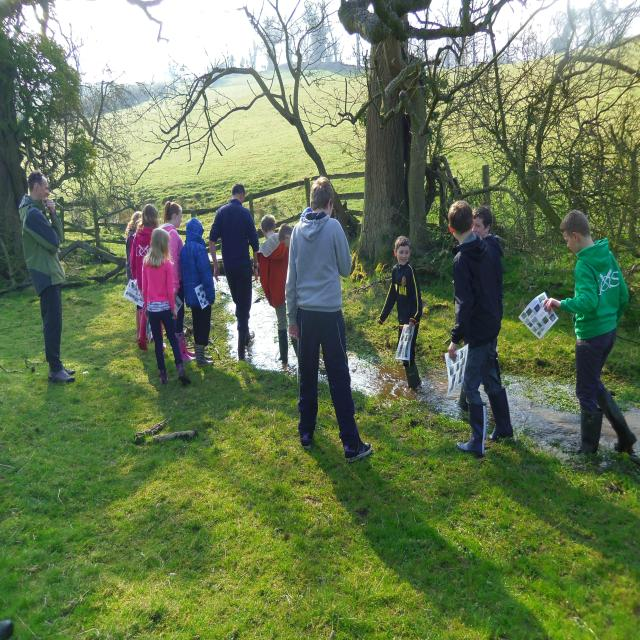body: (307, 435, 547, 640), (518, 208, 637, 455), (284, 174, 373, 464), (444, 196, 518, 458), (17, 168, 78, 384), (546, 470, 639, 576), (208, 181, 261, 362), (140, 226, 193, 387), (376, 234, 424, 390), (258, 213, 300, 367), (159, 200, 197, 362), (178, 215, 216, 368), (129, 203, 167, 351), (124, 210, 154, 342), (469, 206, 504, 316), (278, 223, 294, 251)
